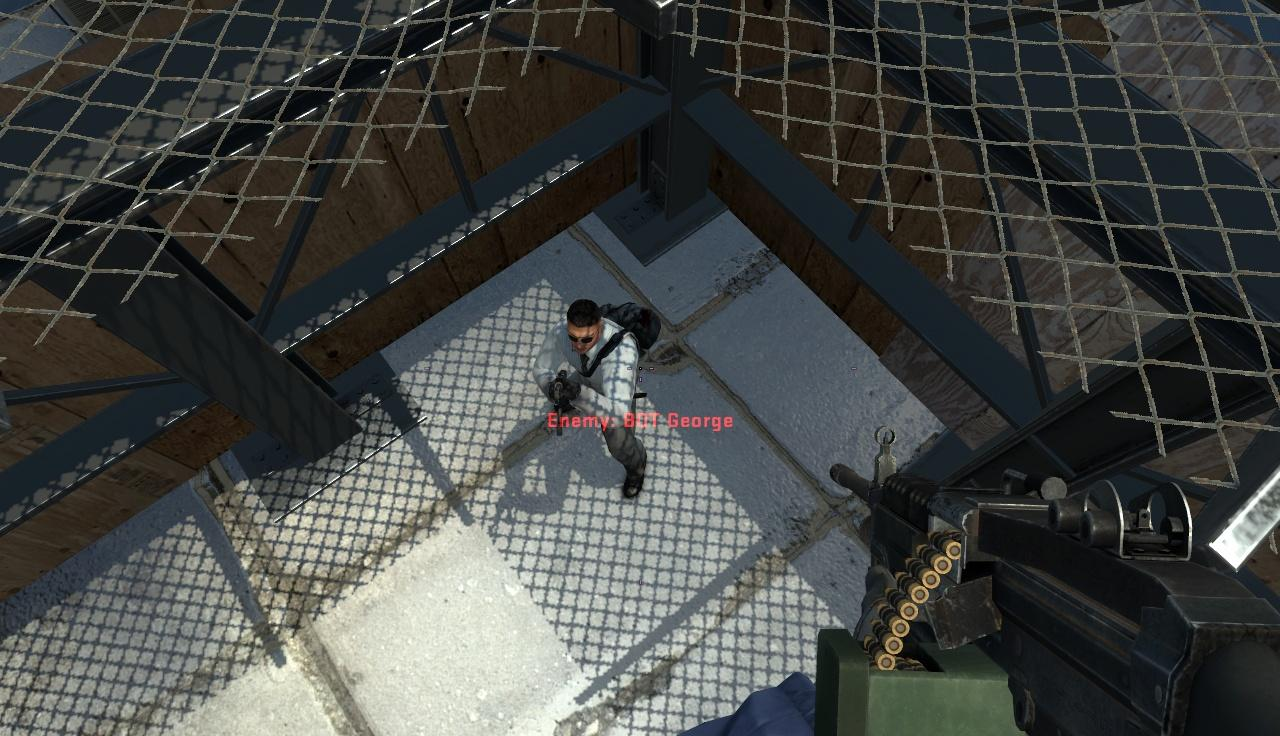rifle: (827, 422, 1280, 736)
tt: (534, 299, 641, 495)
tthead: (566, 300, 604, 355)
